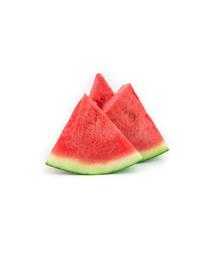watermelon: (41, 70, 170, 177)
